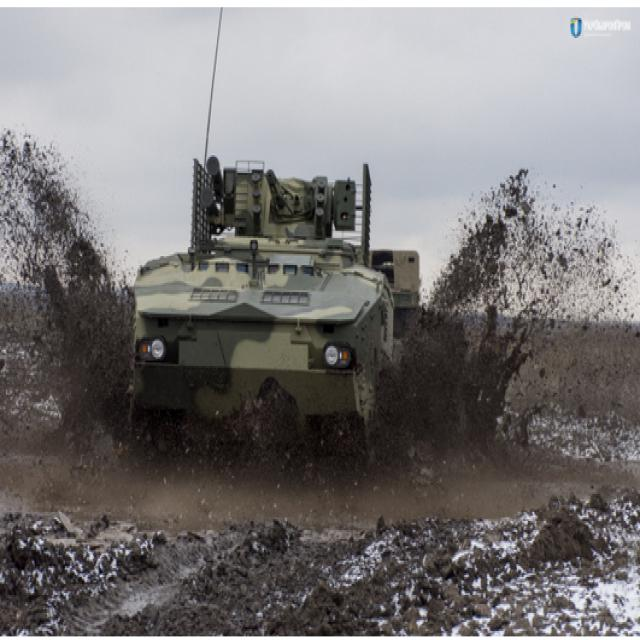MIL_APC: (124, 141, 456, 477)
